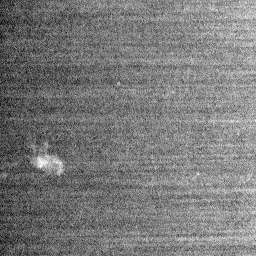con: (28, 145, 68, 180)
